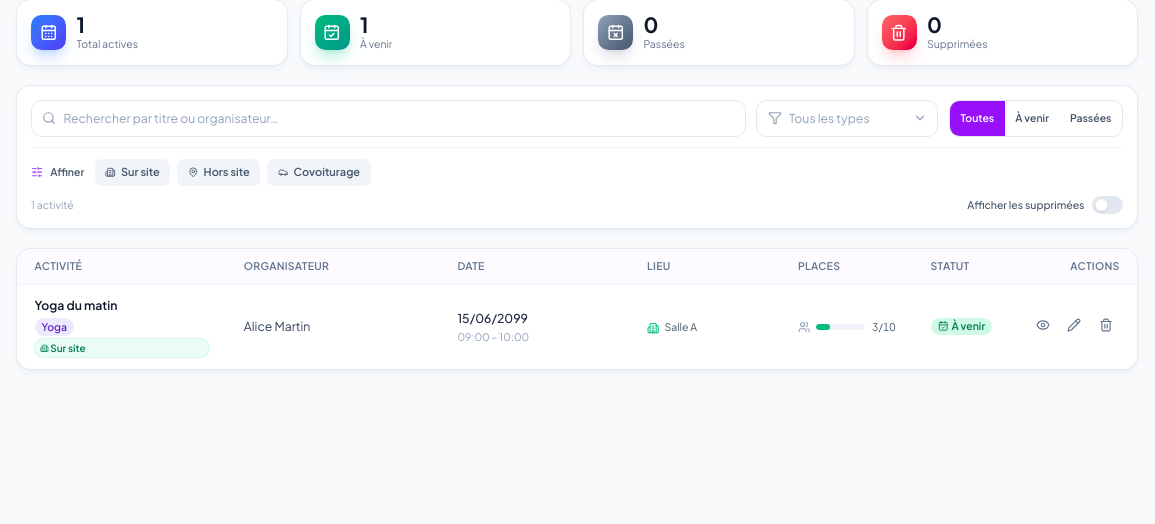
AdminActivitiesPage › filtre par période Passées → état vide
Click the button "Passées": (1091, 118) x1=1060 y1=101 x2=1122 y2=136
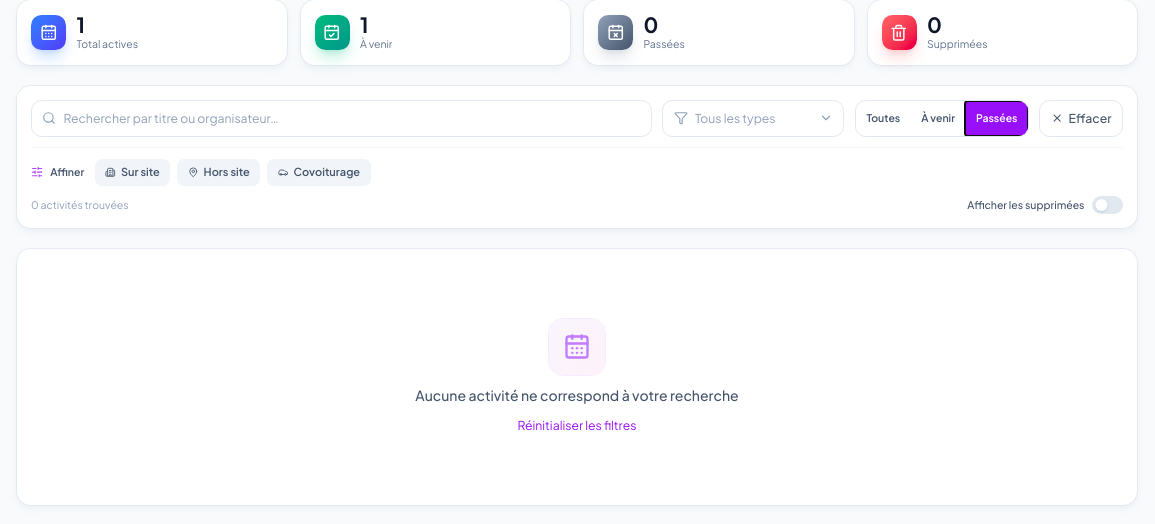
Expected: the text "Aucune activité ne correspond à votre recherche" is shown, x1=415 y1=386 x2=739 y2=404
